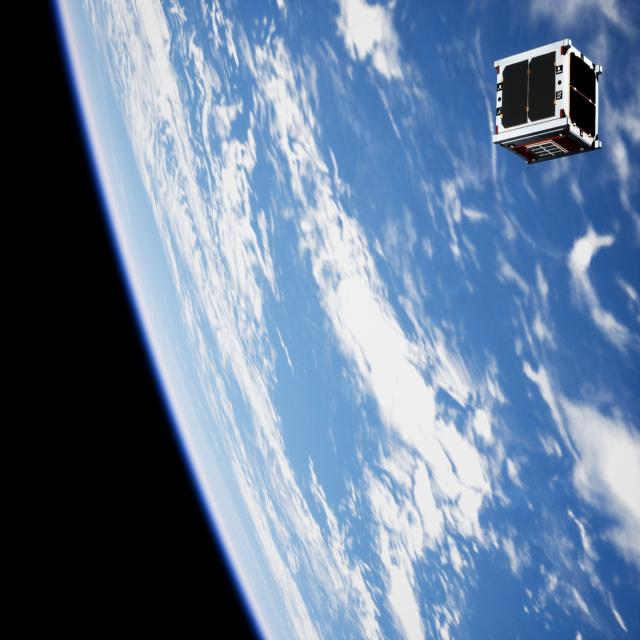satellite: (492, 36, 602, 167)
